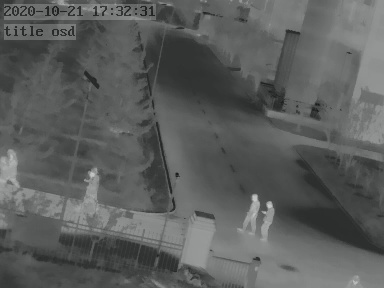person: (79, 167, 102, 211), (2, 149, 21, 188), (245, 193, 261, 234), (261, 198, 275, 239)
